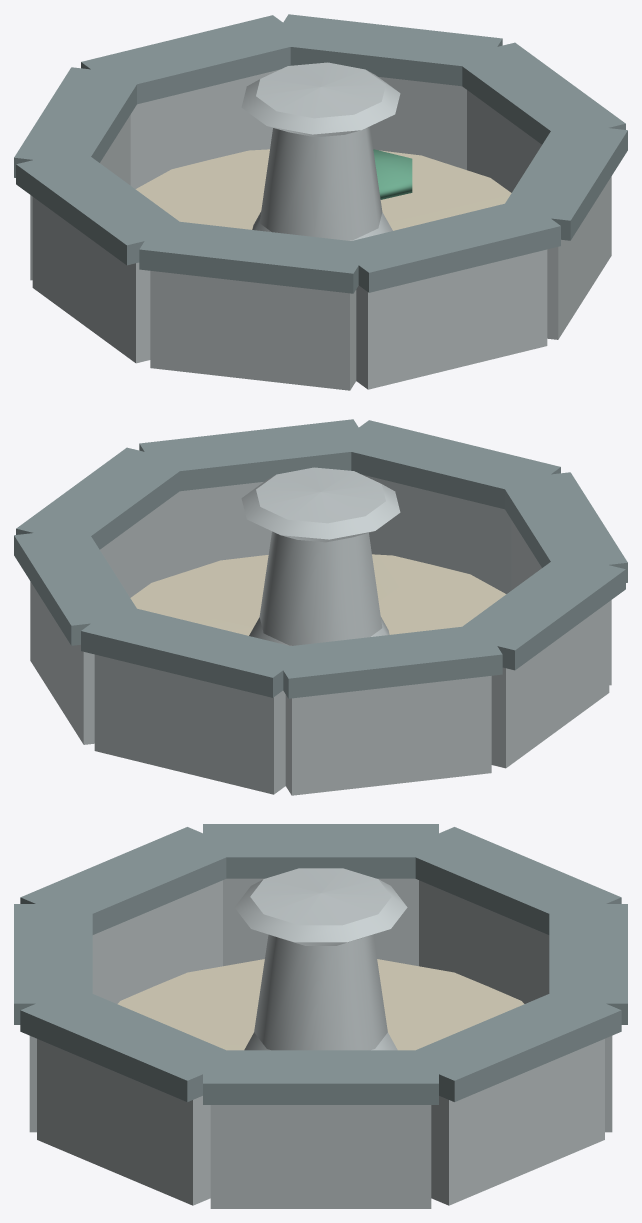
Rendered from silted-octagonal-atrium-fountain.glb.
3 renders of one model, top to bottom at view 1: azimuth 30°, elevation 25°; view 2: azimuth 150°, elevation 25°; view 3: azimuth 270°, elevation 25°, orthographic. The views are drawn at different scales.
Parts seen in each view (by area): view 1: fountain-basin; view 2: fountain-basin; view 3: fountain-basin.
Boxes of the visible parts, x1,y1,x2,y2 form: fountain-basin: [14, 14, 627, 390]; fountain-basin: [14, 419, 627, 795]; fountain-basin: [14, 824, 627, 1208].
Bounding box in the file's own units: 3.12 × 1.08 × 3.12.
